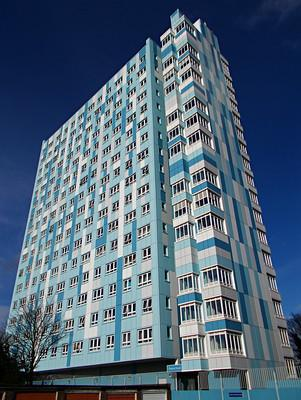building: (8, 11, 300, 400)
